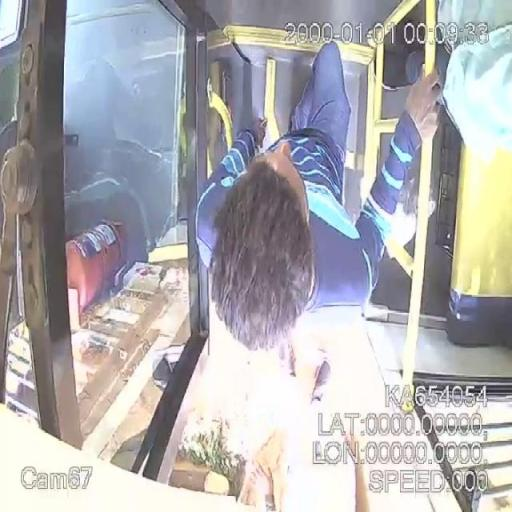persona: (194, 39, 444, 352)
